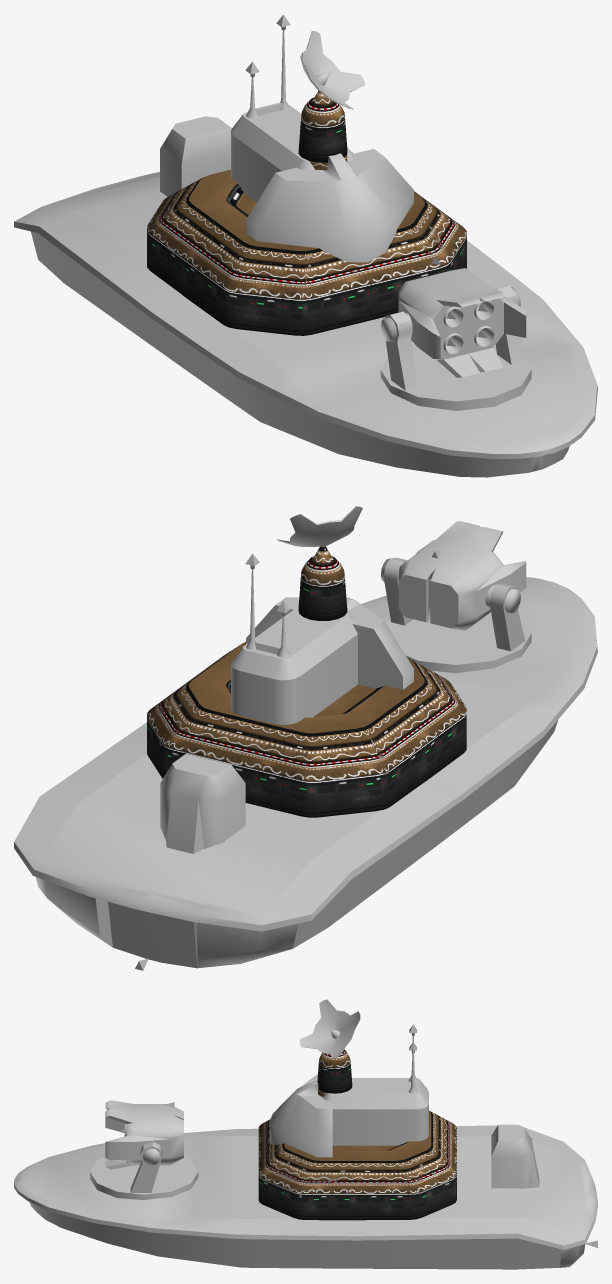
Rendered from bvmislboat.fbx.
3 views of the same model, one above another, from view 1: azimuth 30°, elevation 25°; view 2: azimuth 150°, elevation 25°; view 3: azimuth 270°, elevation 25° (orthographic). The views are drawn at different scales.
Visible parts, largest first — view 1: boatbody, eastwing, armo, recoil1, turntable, train, stack, bunker, turret_y, dish; view 2: boatbody, eastwing, train, recoil1, stack, turntable, armo, bunker, turret_y, dish; view 3: boatbody, eastwing, train, recoil1, armo, turntable, stack, dish, bunker, turret_y.
Boxes of the visible parts, x1=… form: boatbody: x1=14, y1=151, x2=597, y2=477; eastwing: x1=147, y1=169, x2=466, y2=335; armo: x1=246, y1=149, x2=413, y2=262; recoil1: x1=398, y1=268, x2=526, y2=377; turntable: x1=380, y1=343, x2=531, y2=410; train: x1=231, y1=105, x2=354, y2=202; stack: x1=160, y1=116, x2=231, y2=196; bunker: x1=298, y1=91, x2=347, y2=170; turret_y: x1=385, y1=285, x2=525, y2=390; dish: x1=300, y1=31, x2=365, y2=109; boatbody: x1=14, y1=577, x2=597, y2=968; eastwing: x1=147, y1=642, x2=466, y2=817; train: x1=231, y1=606, x2=357, y2=724; recoil1: x1=398, y1=521, x2=526, y2=630; stack: x1=160, y1=754, x2=245, y2=853; turntable: x1=386, y1=612, x2=531, y2=673; armo: x1=246, y1=597, x2=413, y2=689; bunker: x1=298, y1=546, x2=347, y2=620; turret_y: x1=383, y1=557, x2=525, y2=651; dish: x1=277, y1=506, x2=362, y2=546; boatbody: x1=14, y1=1125, x2=597, y2=1269; eastwing: x1=258, y1=1110, x2=456, y2=1220; train: x1=323, y1=1078, x2=428, y2=1145; recoil1: x1=105, y1=1100, x2=183, y2=1169; armo: x1=269, y1=1074, x2=332, y2=1157; turntable: x1=90, y1=1157, x2=198, y2=1200; stack: x1=491, y1=1124, x2=539, y2=1188; dish: x1=299, y1=999, x2=360, y2=1058; bunker: x1=317, y1=1049, x2=352, y2=1096; turret_y: x1=130, y1=1142, x2=162, y2=1192.
Bounding box in the file's own units: 7.49 × 7.65 × 16.85.
